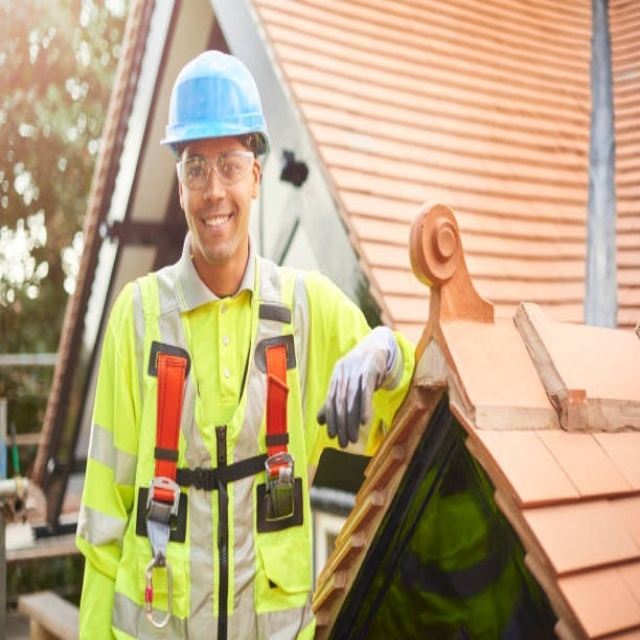Gafas: (173, 146, 258, 191)
Guantes: (316, 325, 403, 444)
Sin_mascara: (188, 201, 242, 245)
